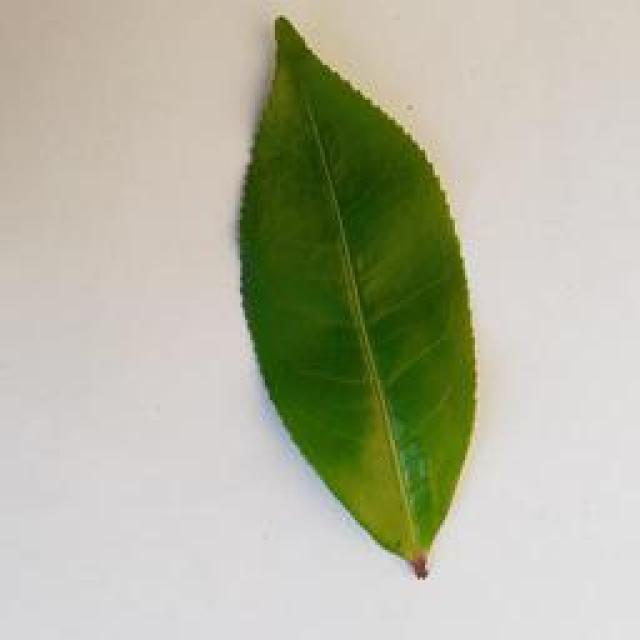Healthy: (220, 7, 487, 593)
